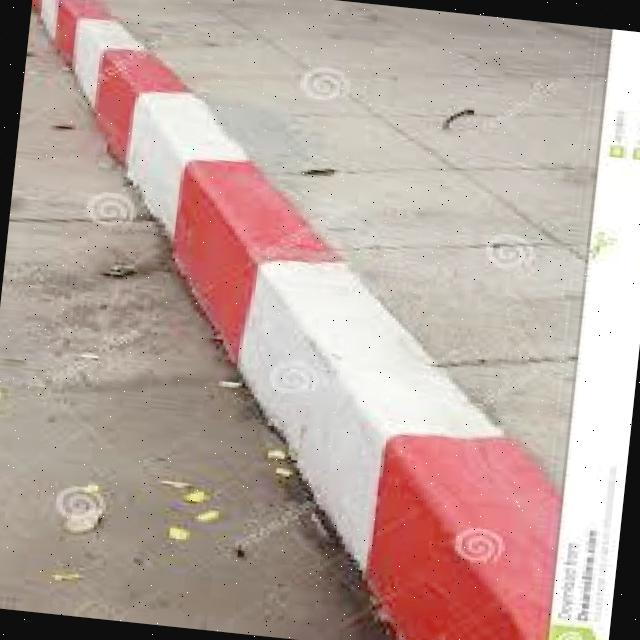curb: (34, 1, 559, 640)
